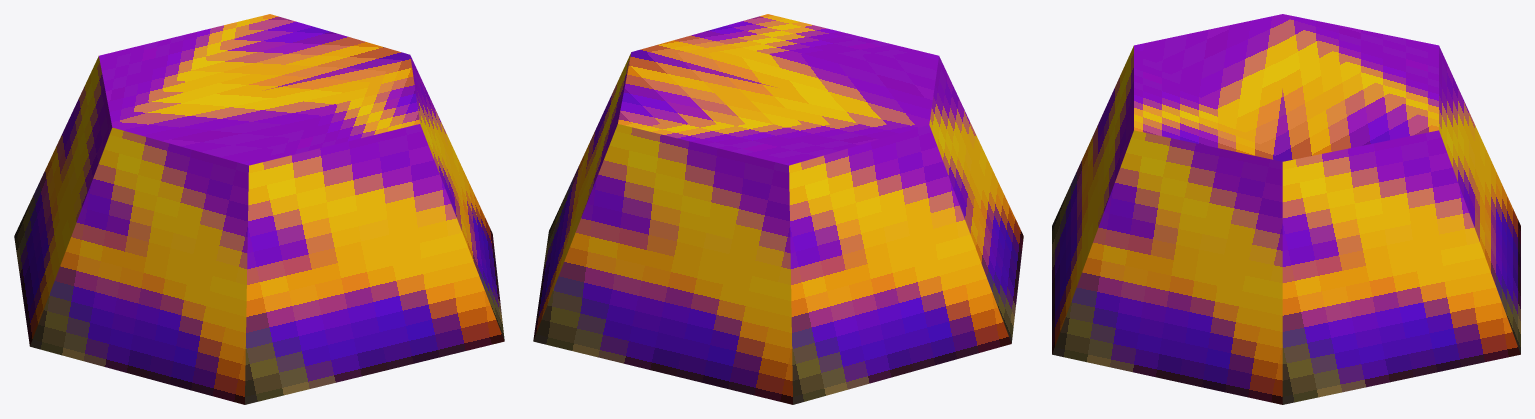
3 views of the same model, side by side, from view 1: azimuth 30°, elevation 25°; view 2: azimuth 150°, elevation 25°; view 3: azimuth 270°, elevation 25° (orthographic).
Visible parts, largest first — view 1: Joke_obj_036; view 2: Joke_obj_036; view 3: Joke_obj_036.
Boxes of the visible parts, left/top/right/bottom form: Joke_obj_036: left=14, top=14, right=504, bottom=404; Joke_obj_036: left=533, top=14, right=1023, bottom=404; Joke_obj_036: left=1052, top=14, right=1520, bottom=404.
Size of the model in its own units: 0.1426 by 0.0586 by 0.123.
Materials: 1 (1 with a texture image).
